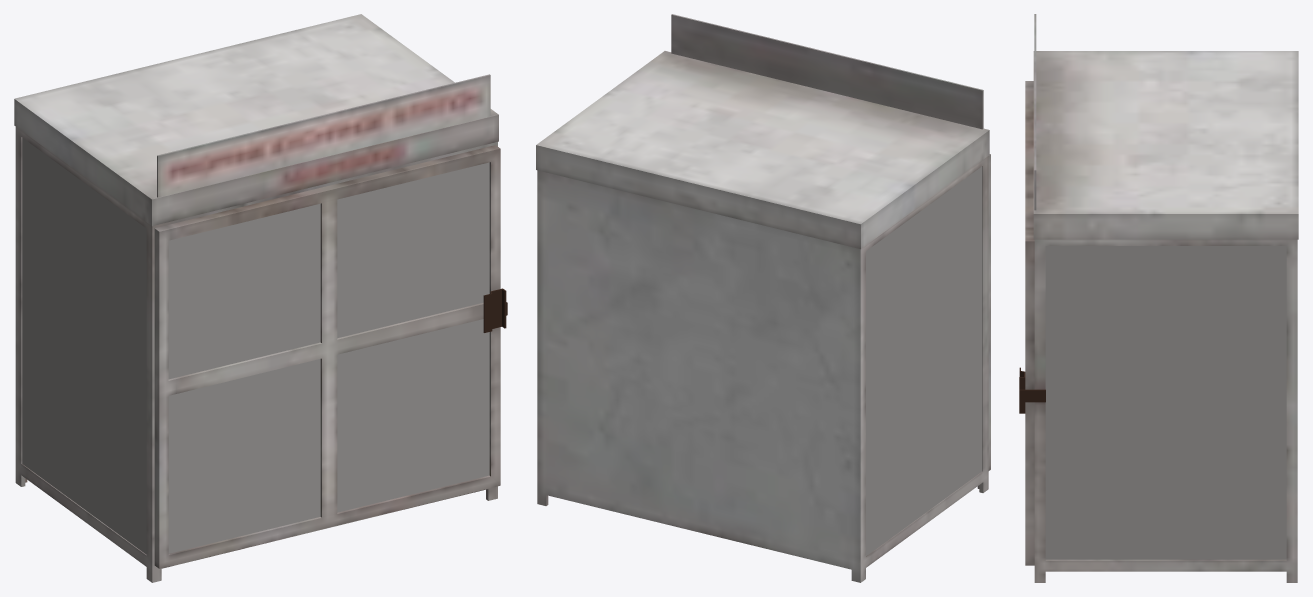
The model's file is propane-cage.lod1.glb.
3 views of the same model, side by side, from view 1: azimuth 30°, elevation 25°; view 2: azimuth 150°, elevation 25°; view 3: azimuth 270°, elevation 25° (orthographic). The views are drawn at different scales.
Visible parts, largest first — view 1: pCube19_Mesh_0, pCube11_CageWhite_0; view 2: pCube11_CageWhite_0, pCube19_Mesh_0; view 3: pCube19_Mesh_0, pCube11_CageWhite_0.
Part boxes in pixels (bbox=[...]): pCube19_Mesh_0: bbox=[22, 138, 507, 554]; pCube11_CageWhite_0: bbox=[14, 14, 500, 582]; pCube11_CageWhite_0: bbox=[536, 14, 990, 582]; pCube19_Mesh_0: bbox=[866, 166, 982, 556]; pCube19_Mesh_0: bbox=[1019, 246, 1286, 559]; pCube11_CageWhite_0: bbox=[1025, 14, 1298, 582].
Bounding box in the file's own units: 1.54 × 1.8 × 1.11.
Materials: 2 (1 with a texture image).
